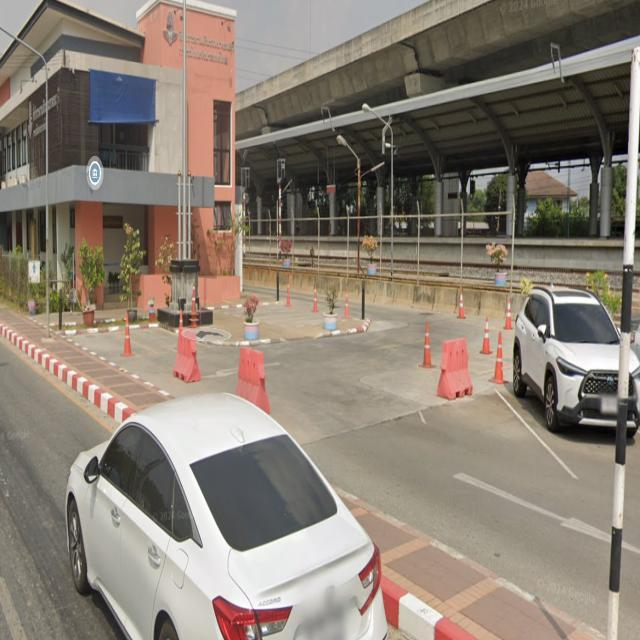fallen_object: (220, 330, 288, 427), (275, 279, 385, 319), (426, 330, 480, 409), (467, 313, 506, 393), (157, 325, 209, 376), (495, 279, 526, 343), (330, 74, 380, 110), (405, 316, 434, 372), (443, 289, 477, 331), (122, 302, 142, 360)
